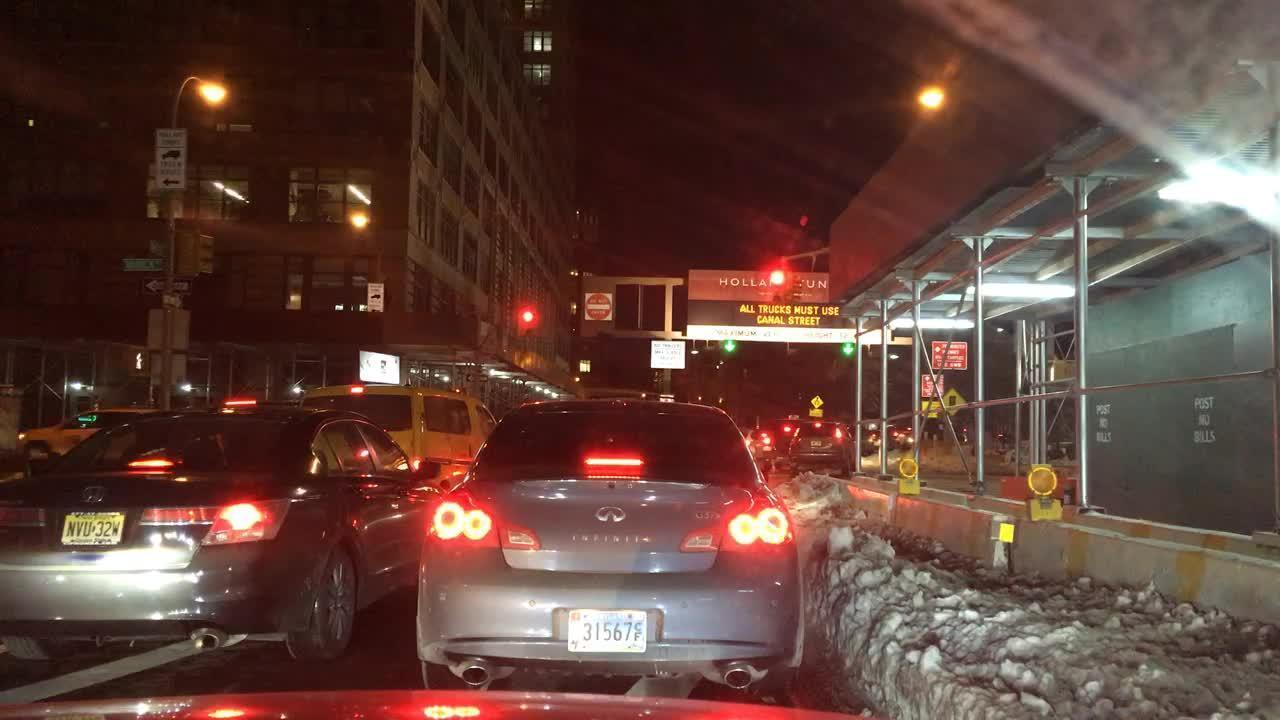Infiniti: (582, 497, 646, 533)
